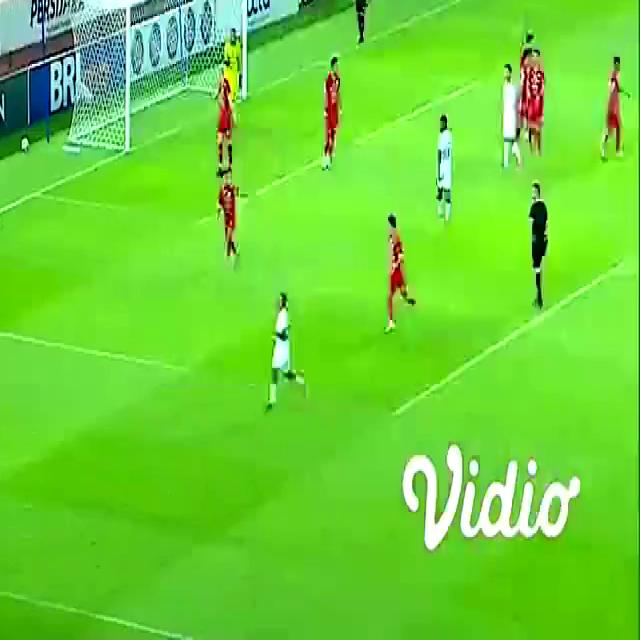referee: (518, 179, 564, 328)
soccer-player: (251, 288, 309, 422), (376, 207, 425, 342), (488, 51, 536, 178), (311, 45, 355, 181), (593, 51, 640, 174), (211, 168, 250, 264)
